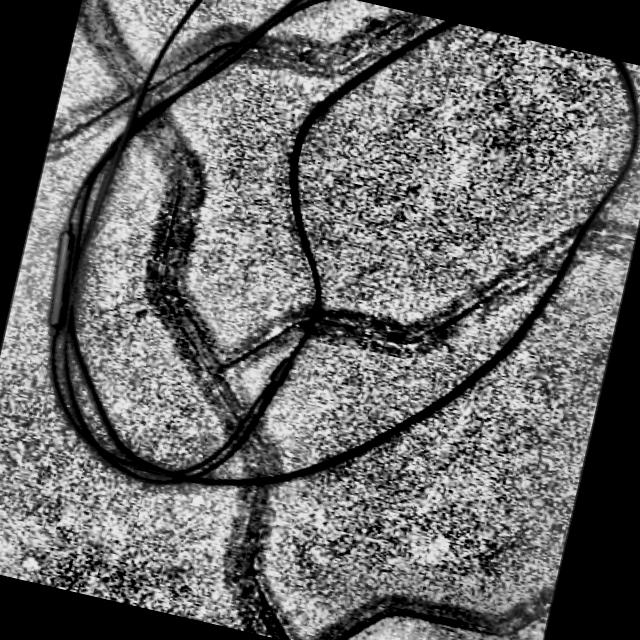Cable: (10, 0, 640, 570)
